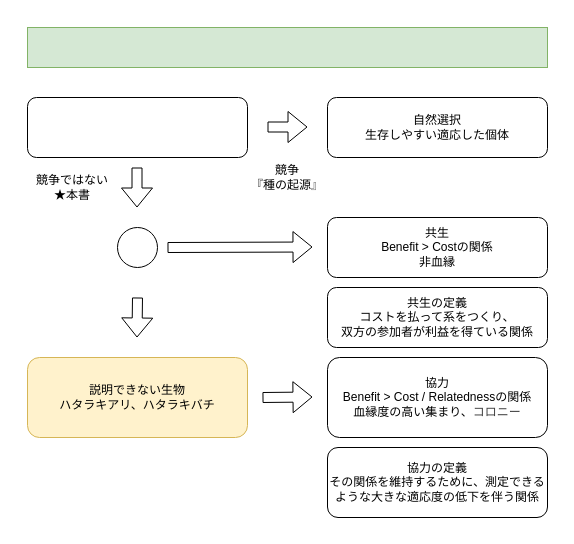
Some shapes in this 574 by 544 pixel diagram are drawn without their labels. The shapes that lost their labels are listed below. From the top down, each one's box as (x1, y1, x2, y2) in pixels, then its label:
(26, 26, 548, 68): 利己的な生物がなぜ協力し合えるのか 競争と非競争
(26, 96, 248, 158): 適応 ・住む環境に合ったカタチ ・生活様式が環境に適している
